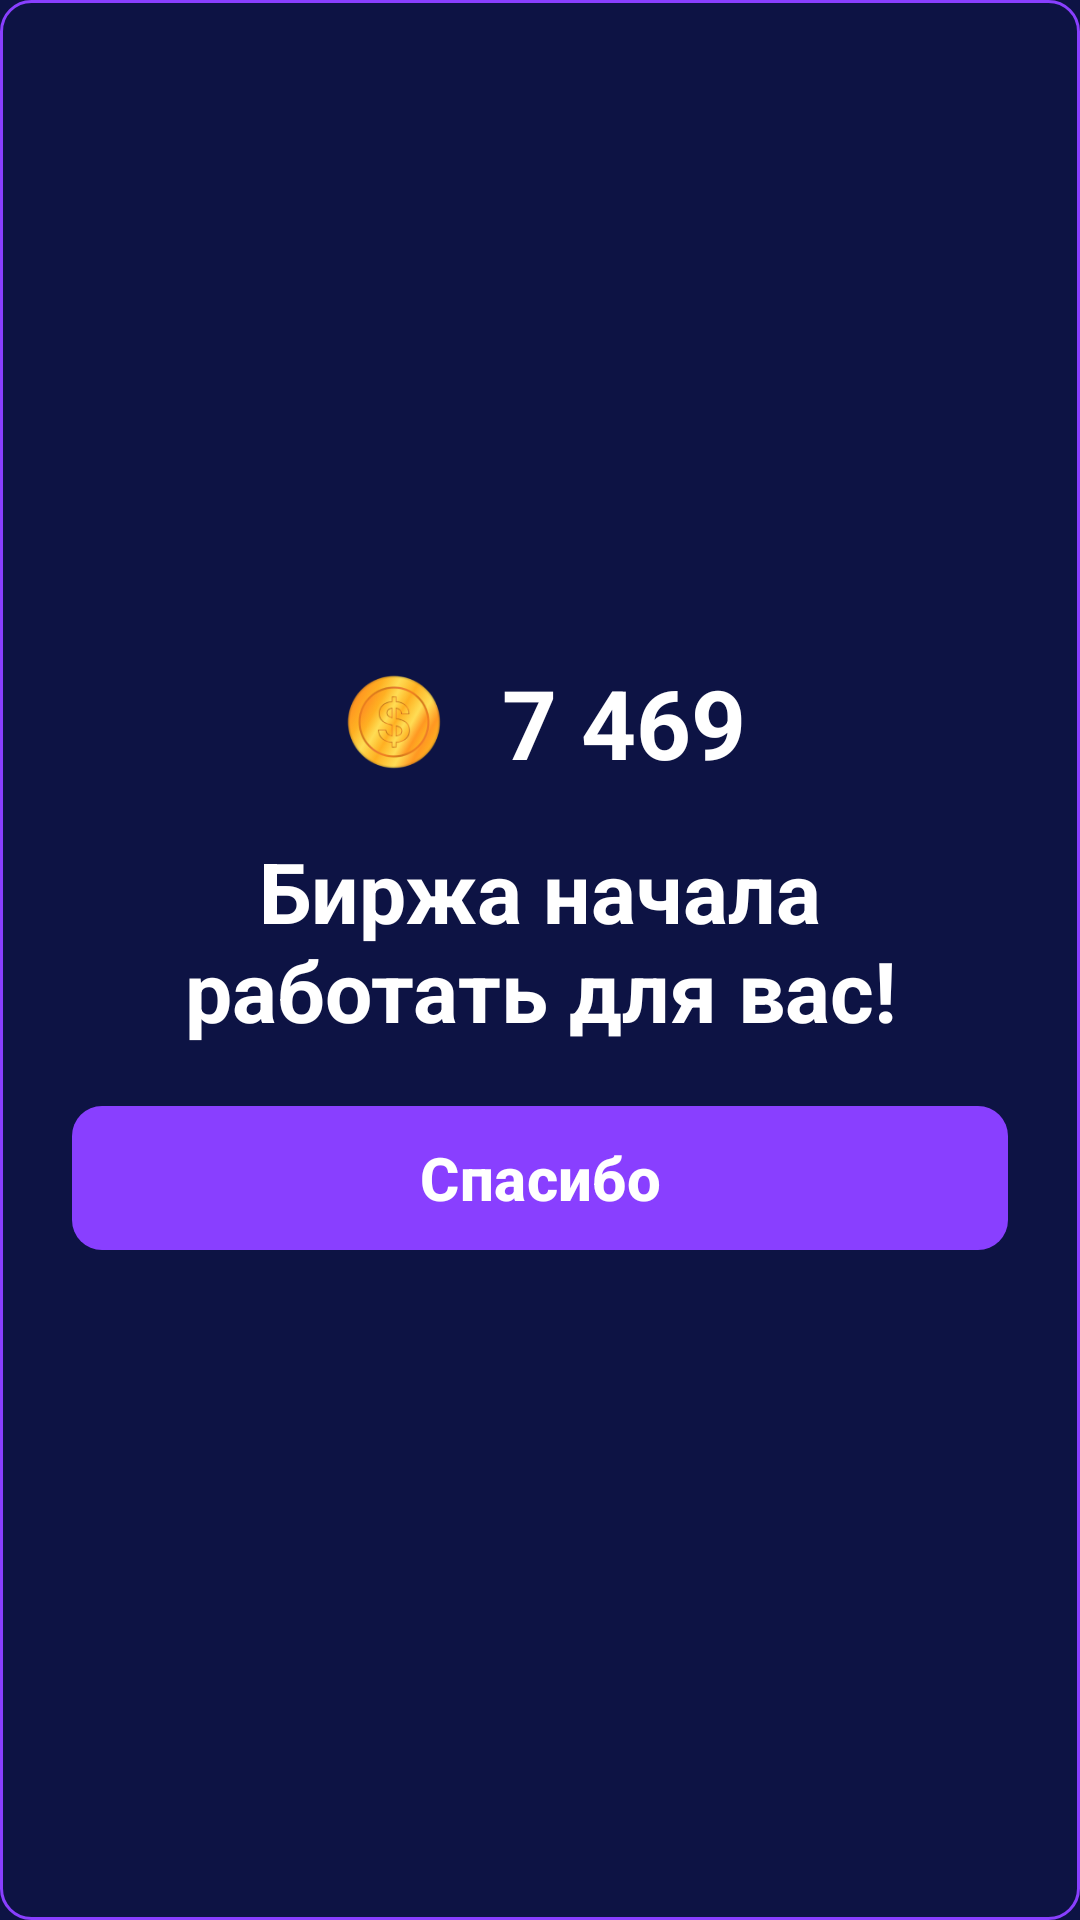

Icon click points for this 1080px×1920px phone screenshot, format (x,y):
coin: (393,721)
